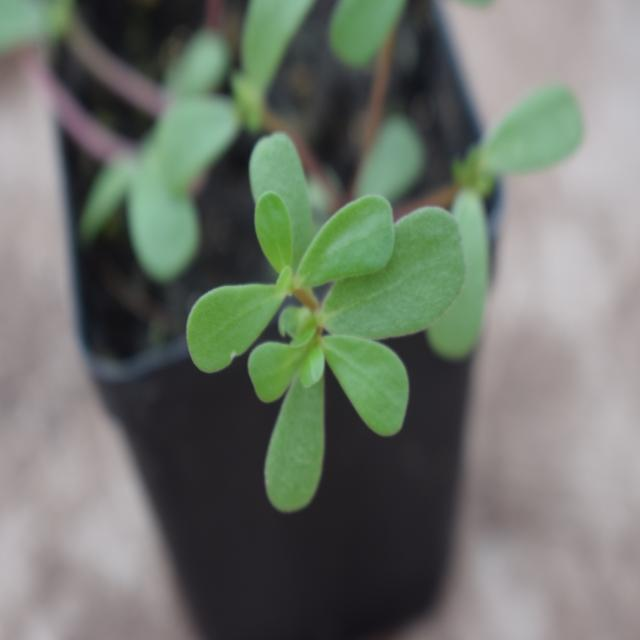purslane: (163, 112, 479, 530)
